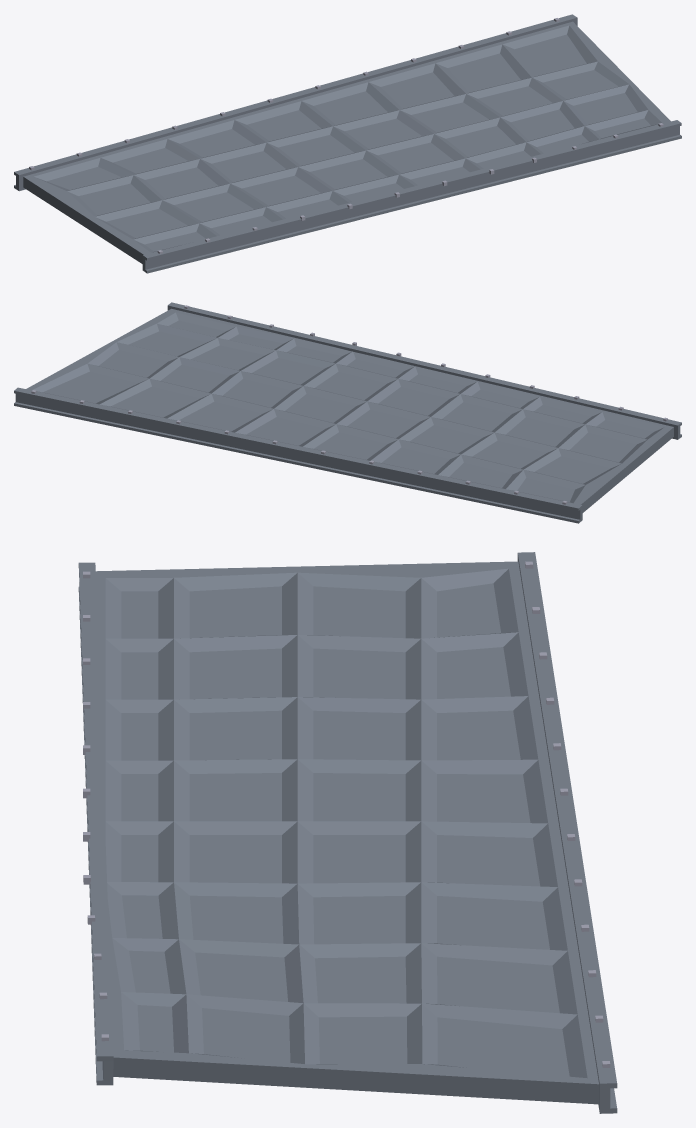
Rendered from Board01_010.fbx.
3 views of the same model, one above another, from view 1: azimuth 30°, elevation 25°; view 2: azimuth 150°, elevation 25°; view 3: azimuth 270°, elevation 25° (orthographic). The views are drawn at different scales.
Visible parts, largest first — view 1: Board01.010; view 2: Board01.010; view 3: Board01.010.
Part boxes in pixels (x1=…): Board01.010: x1=14, y1=14, x2=681, y2=273; Board01.010: x1=14, y1=302, x2=681, y2=523; Board01.010: x1=78, y1=552, x2=617, y2=1113.
Size of the model in its own units: 2.13 by 0.0634 by 0.9099.
